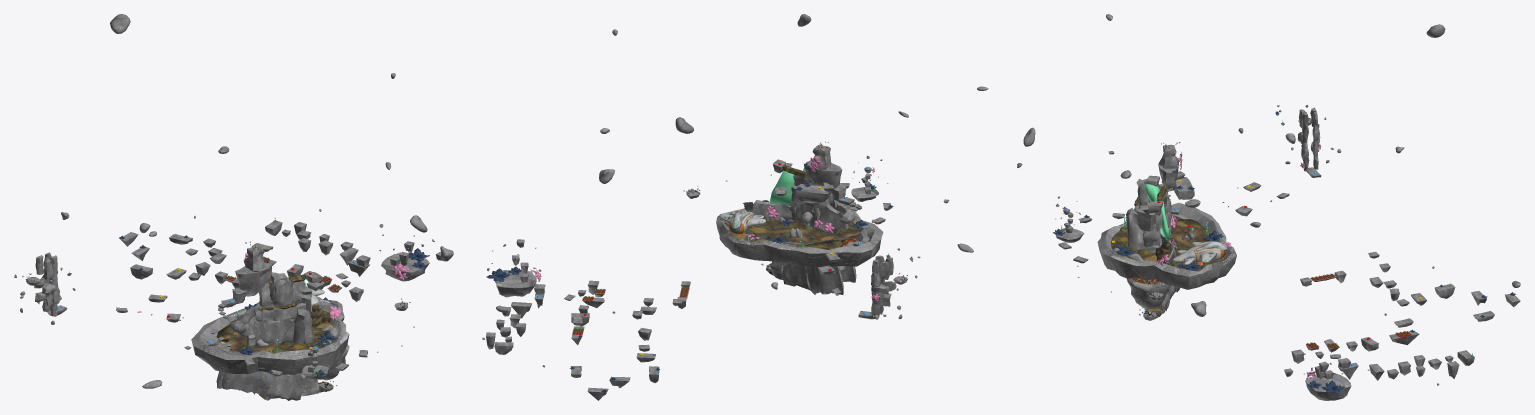
File: FULLSCENEOMEGALUL2.fbx
The picture shows the model from 3 angles, left to right: view 1: azimuth 30°, elevation 25°; view 2: azimuth 150°, elevation 25°; view 3: azimuth 270°, elevation 25°; orthographic projection. The views are drawn at different scales.
Parts seen in each view (by area): view 1: Circle.011, Circle, unityexport3.285, unityexport3.282, unityexport3.302, unityexport.164, unityexport.080, unityexport.054, unityexport.004, unityexport3.278, unityexport.165; view 2: Circle.011, Circle, unityexport3.284, unityexport.054, Ship.001, unityexport.164, unityexport3.227, unityexport3.300, Plane, unityexport.157, unityexport3.298; view 3: Circle.011, Circle, Ship.001, Cylinder, unityexport.054, unityexport.080.
Boxes of the visible parts, x1,y1,x2,y2 form: Circle.011: [191, 296, 349, 374]; Circle: [229, 318, 335, 354]; unityexport3.285: [222, 371, 273, 397]; unityexport3.282: [265, 373, 306, 400]; unityexport3.302: [253, 318, 294, 343]; unityexport.164: [235, 262, 271, 296]; unityexport.080: [293, 307, 314, 343]; unityexport.054: [381, 252, 429, 281]; unityexport.004: [272, 280, 293, 305]; unityexport3.278: [261, 306, 297, 321]; unityexport.165: [244, 246, 265, 271]; Circle.011: [716, 204, 883, 266]; Circle: [724, 218, 861, 243]; unityexport3.284: [806, 266, 843, 294]; unityexport.054: [496, 270, 536, 297]; Ship.001: [719, 210, 765, 234]; unityexport.164: [804, 161, 842, 192]; unityexport3.227: [782, 263, 810, 290]; unityexport3.300: [752, 200, 792, 219]; Plane: [769, 170, 794, 205]; unityexport.157: [795, 184, 831, 203]; unityexport3.298: [812, 200, 844, 232]; Circle.011: [1097, 202, 1236, 289]; Circle: [1110, 220, 1226, 269]; Ship.001: [1172, 241, 1227, 264]; Cylinder: [1127, 278, 1170, 308]; unityexport.054: [1305, 373, 1351, 400]; unityexport.080: [1126, 208, 1145, 249].
Size of the model in its own units: 27211 by 17349 by 28983.
